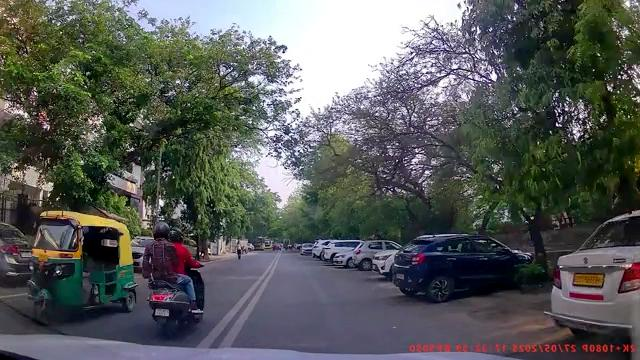passenger_with_helmet: (146, 220, 208, 338)
